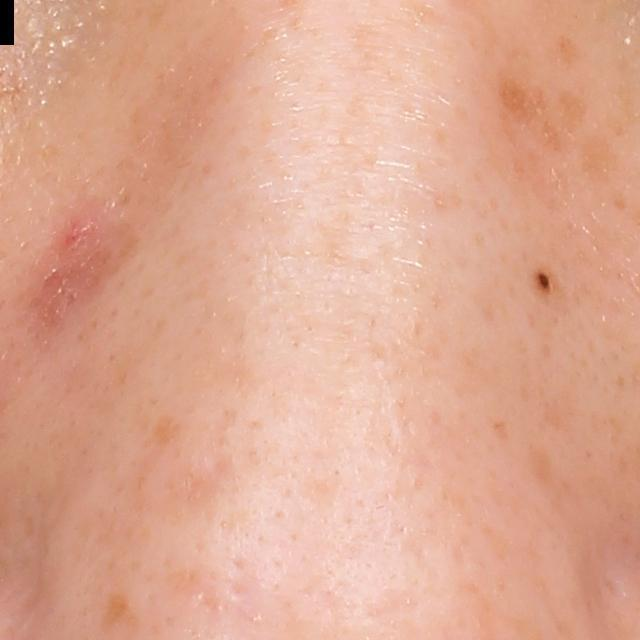melasma: (496, 75, 572, 162), (146, 399, 189, 456), (580, 130, 614, 192), (556, 87, 594, 140), (99, 595, 143, 638), (555, 29, 586, 74), (527, 449, 558, 487), (489, 419, 514, 442)
